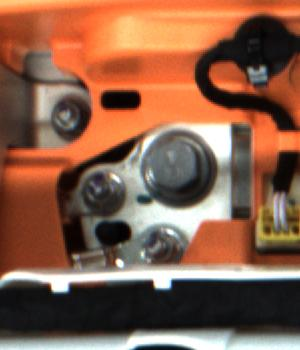nut_b: (136, 128, 221, 201)
screw_s: (78, 166, 128, 204), (45, 93, 86, 138), (143, 231, 182, 263)
